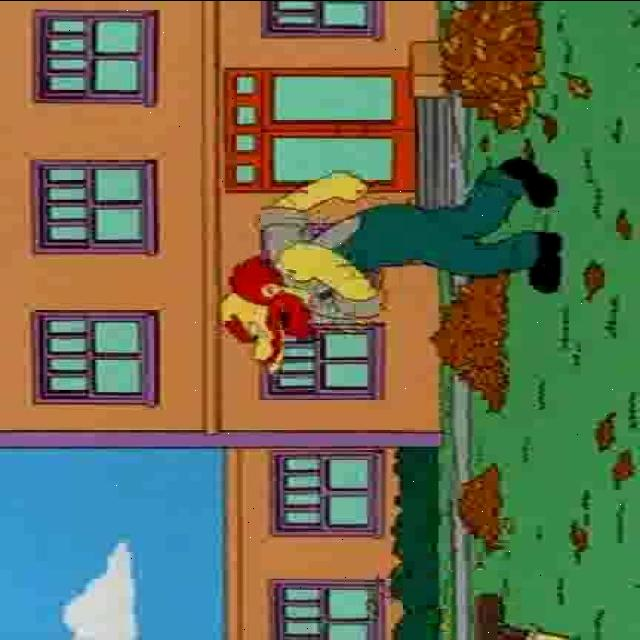Groundskeeper Willie: (215, 254, 315, 366)
